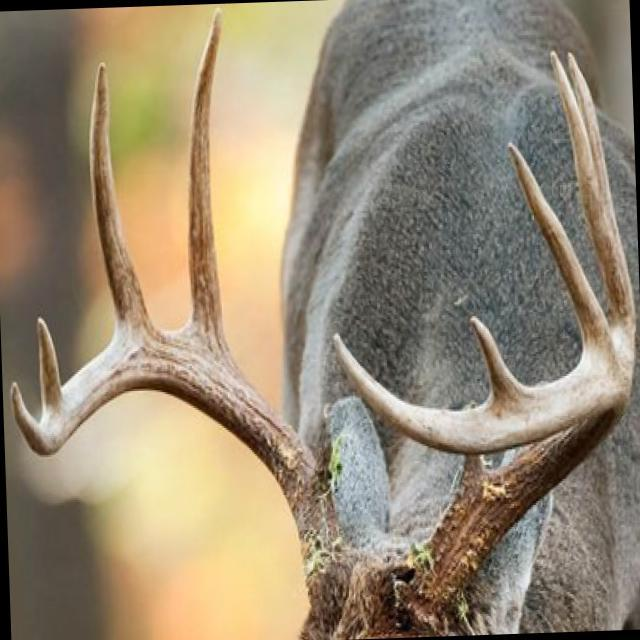L-F: (331, 329, 637, 618)
L-G3: (548, 46, 636, 321)
L-G4: (507, 141, 610, 348)
L-G5: (469, 315, 524, 397)
R-F: (9, 325, 319, 513)
R-G1: (185, 4, 231, 354)
R-G2: (89, 59, 154, 332)
R-G3: (35, 313, 62, 417)
